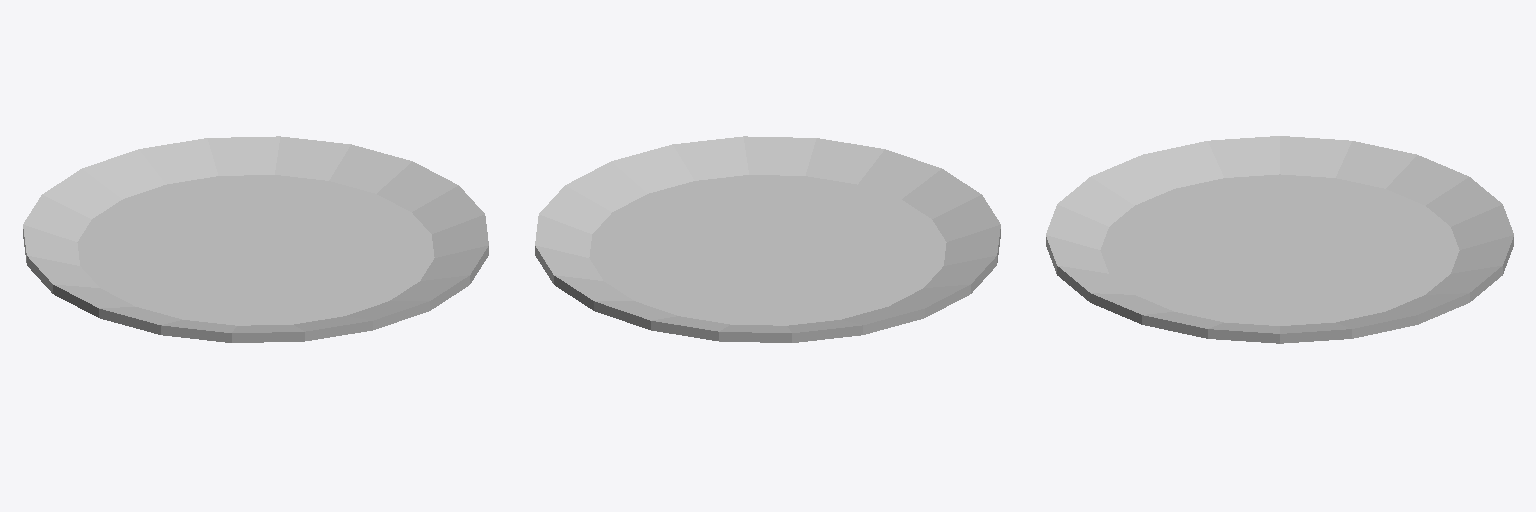
Rendered from Plate.obj.
3 views of the same model, side by side, from view 1: azimuth 30°, elevation 25°; view 2: azimuth 150°, elevation 25°; view 3: azimuth 270°, elevation 25° (orthographic).
Bounding box in the file's own units: 0.2747 × 0.0273 × 0.2747.